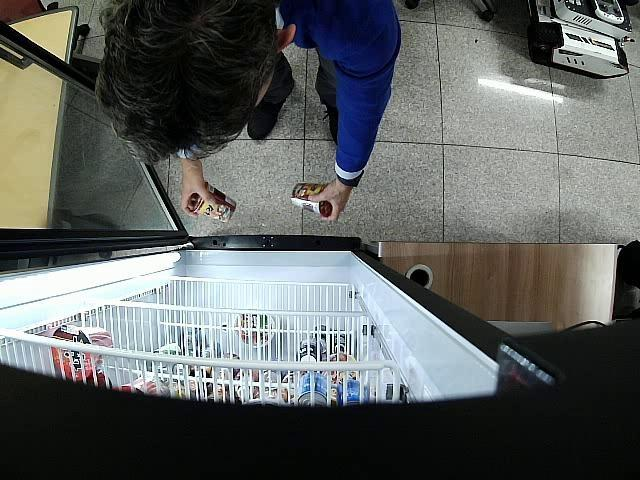06_nuguri_S: (188, 182, 236, 222), (291, 182, 332, 217)
